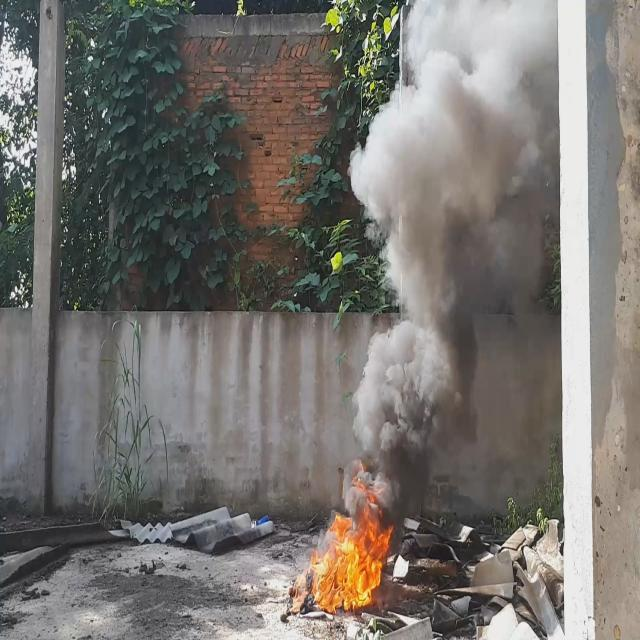Fire: (312, 468, 394, 610)
Smoke: (342, 0, 558, 523)
